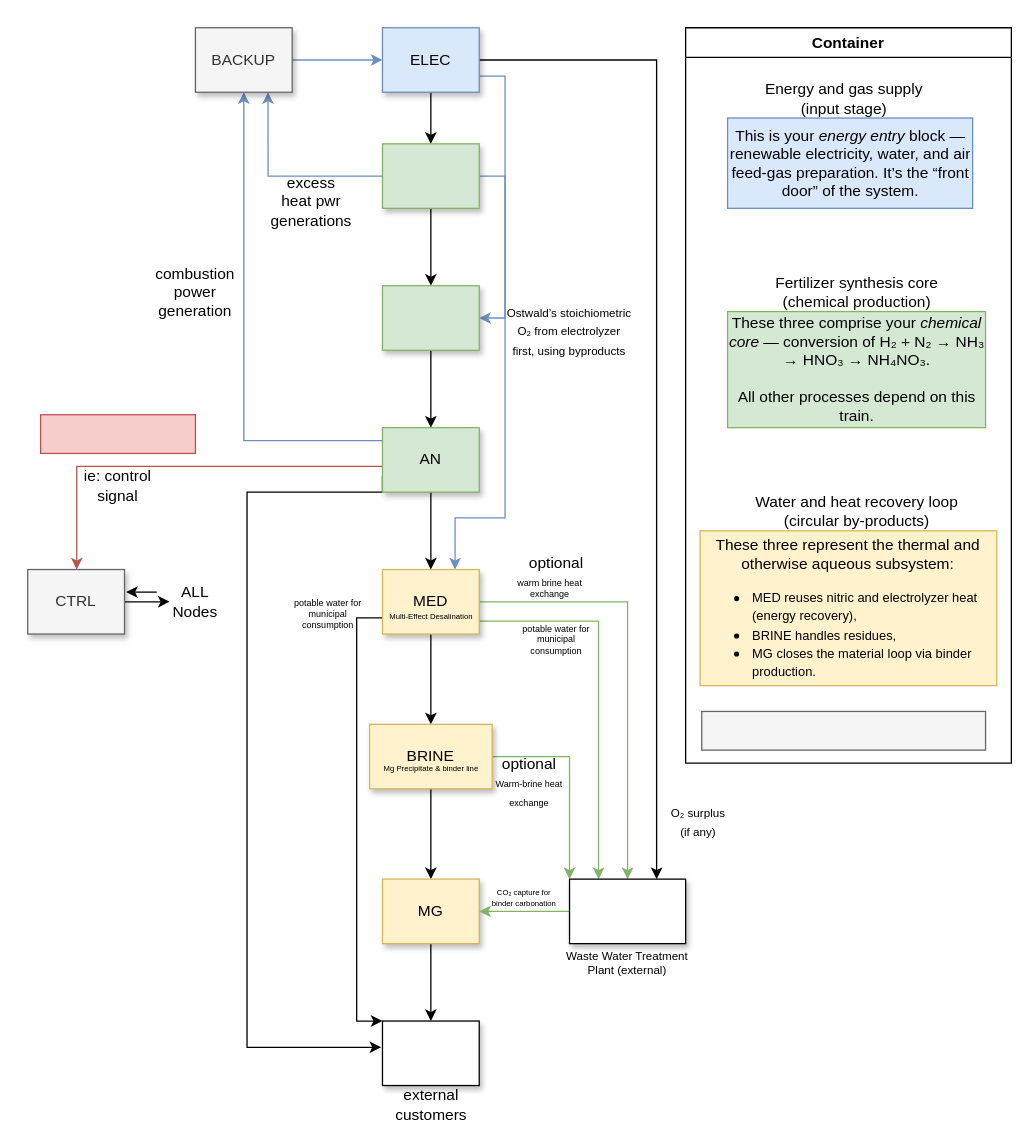
The diagram is 1035 pixels wide and 1147 high, and some of its shapes have lost their labels. Here are the shapes that lost their labels. From the top down, the centre of each, then its label:
At (x=431, y=177): "HB".
At (x=431, y=319): "HNO3".
At (x=117, y=433): "AN defines all process output ratios".
At (x=843, y=730): "Utilities, Control, standby systems".
At (x=628, y=913): "WWTP".
At (x=431, y=1055): "OUT".
